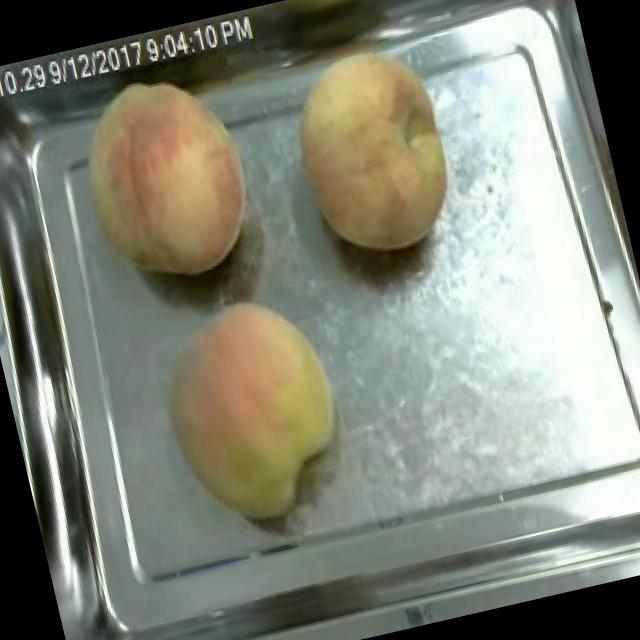Fruit: (137, 278, 368, 543), (50, 52, 276, 304), (270, 30, 476, 275)
